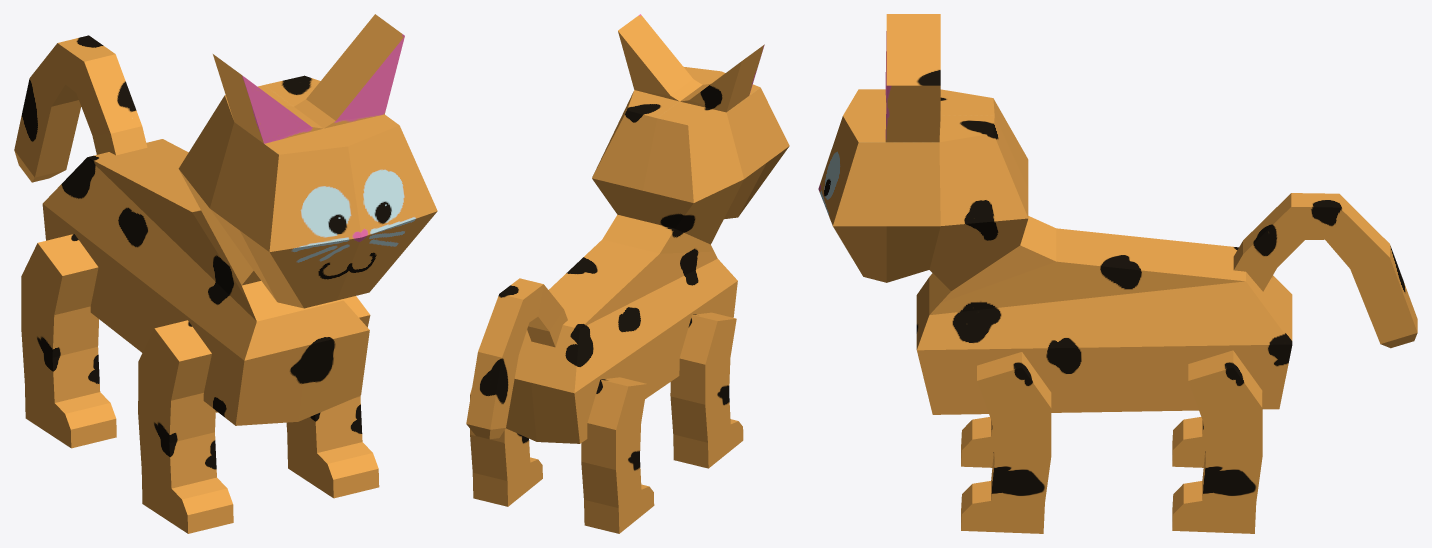
Rendered from cat1.fbx.
3 renders of one model, left to right at view 1: azimuth 30°, elevation 25°; view 2: azimuth 150°, elevation 25°; view 3: azimuth 270°, elevation 25°, orthographic. The views are drawn at different scales.
Parts seen in each view (by area): view 1: Cube; view 2: Cube; view 3: Cube.
Part boxes in pixels (box(x1,y1,x2,y2)): Cube: box(14, 14, 437, 533); Cube: box(466, 14, 789, 533); Cube: box(818, 14, 1417, 533).
Size of the model in its own units: 2.46 by 6.02 by 7.41.
Materials: 1 (1 with a texture image).
